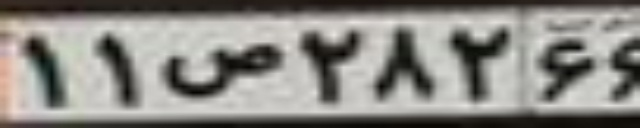1: (91, 31, 138, 106), (24, 34, 68, 108)
2: (443, 24, 509, 101), (297, 27, 361, 104)
6: (531, 36, 596, 103), (604, 37, 638, 104)
saat: (162, 43, 282, 97)
